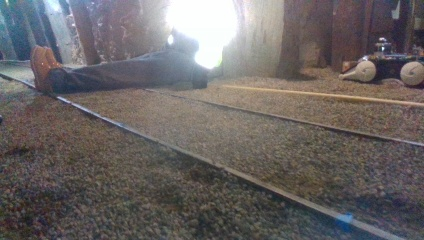manikin: (27, 0, 240, 97)
